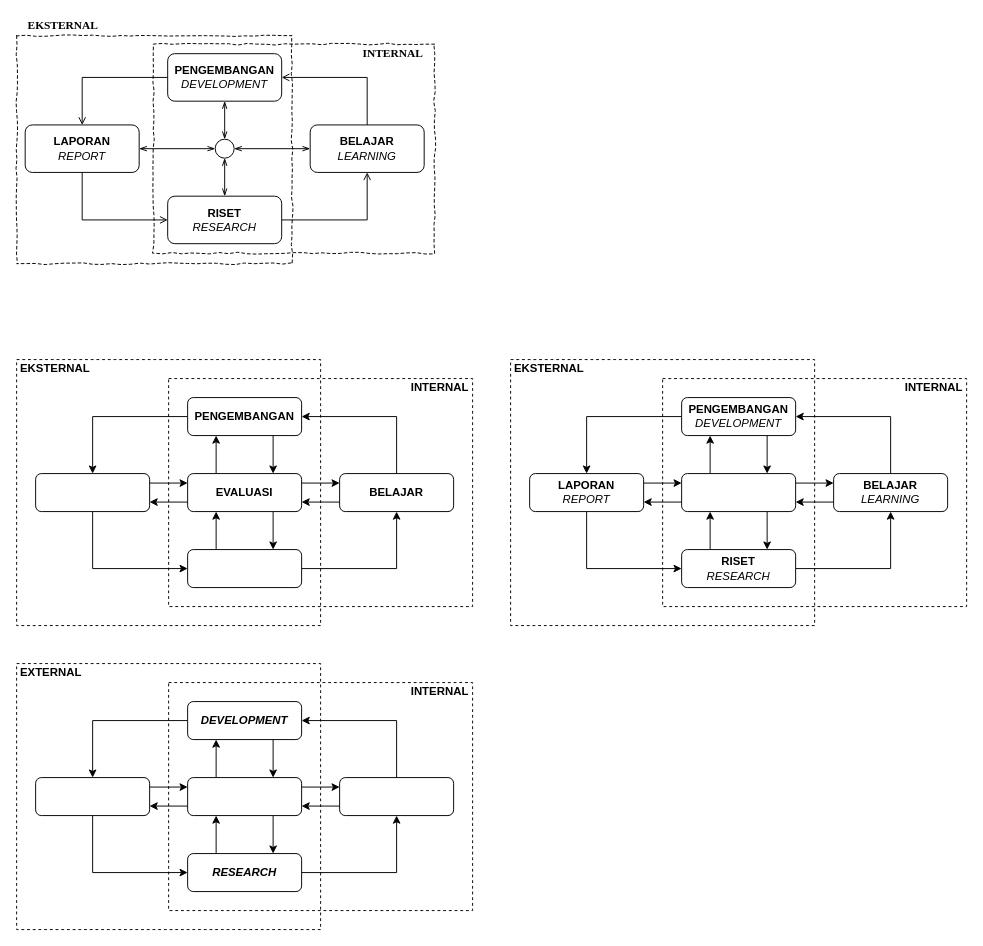
This 983x946 diagram has some shape labels left out. Each missing label, with the box of its shape:
EVALUASI EVALUATE: (681, 473, 796, 512)
EVALUATE: (187, 777, 302, 816)
LAPORAN: (35, 473, 150, 512)
LEARNING: (339, 777, 454, 816)
REPORT: (35, 777, 150, 816)
RISET: (187, 549, 302, 588)
